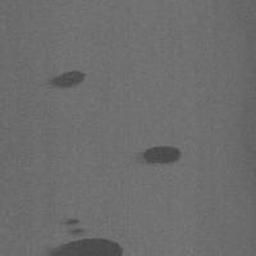Oil spot: (40, 218, 124, 256), (134, 145, 183, 168), (44, 69, 88, 91)
